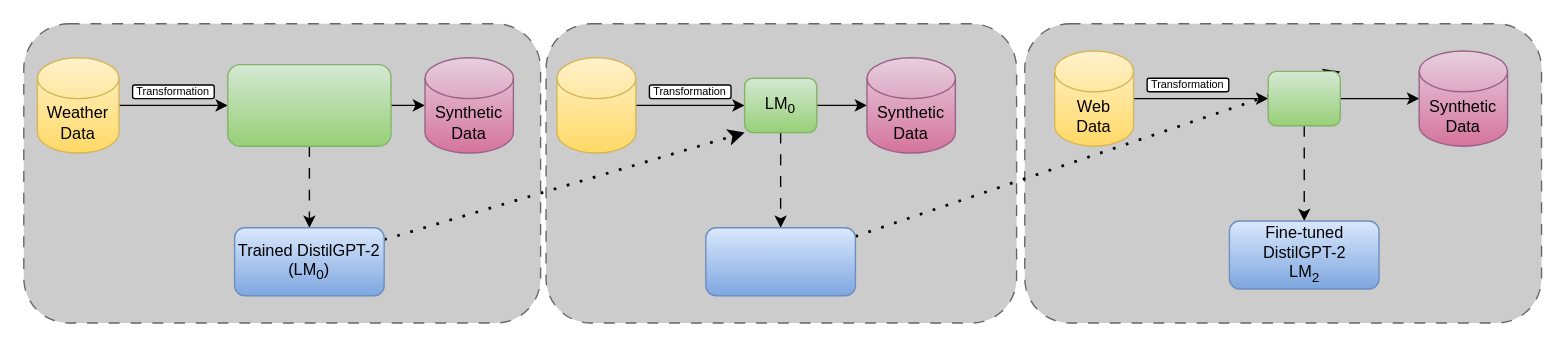
Some shapes in this 1565 by 347 pixel diagram are drawn without their labels. Each missing label, with the centre of its shape:
Energy Data: the point at 596,104
Fine-tuned DistilGPT-2 LM 1: the point at 779,261
LM 1: the point at 1303,98
Random initialized DistilGPT-2: the point at 308,104
